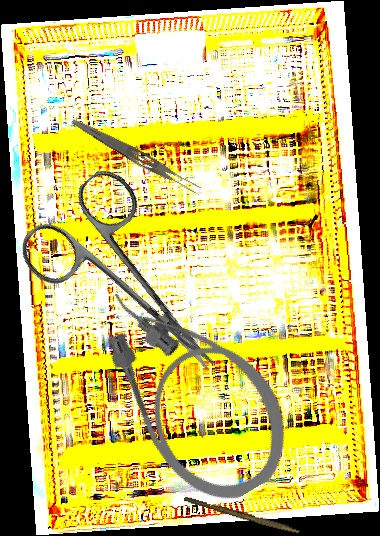Cannula: (76, 250, 312, 522)
Dressing Forceps: (67, 115, 204, 198)
Iris Scissors: (11, 161, 255, 413)
Scalpel Handle: (183, 495, 301, 535)
